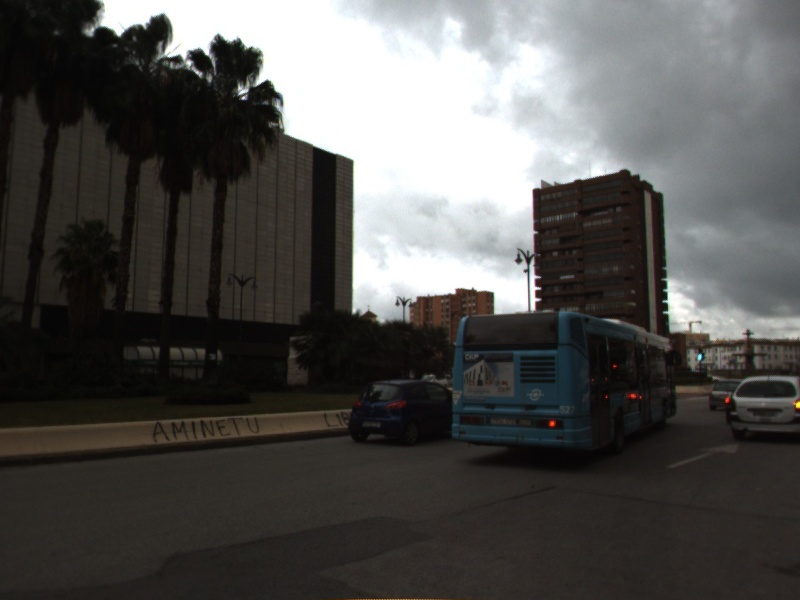STRAIGHT: (663, 441, 741, 471)
